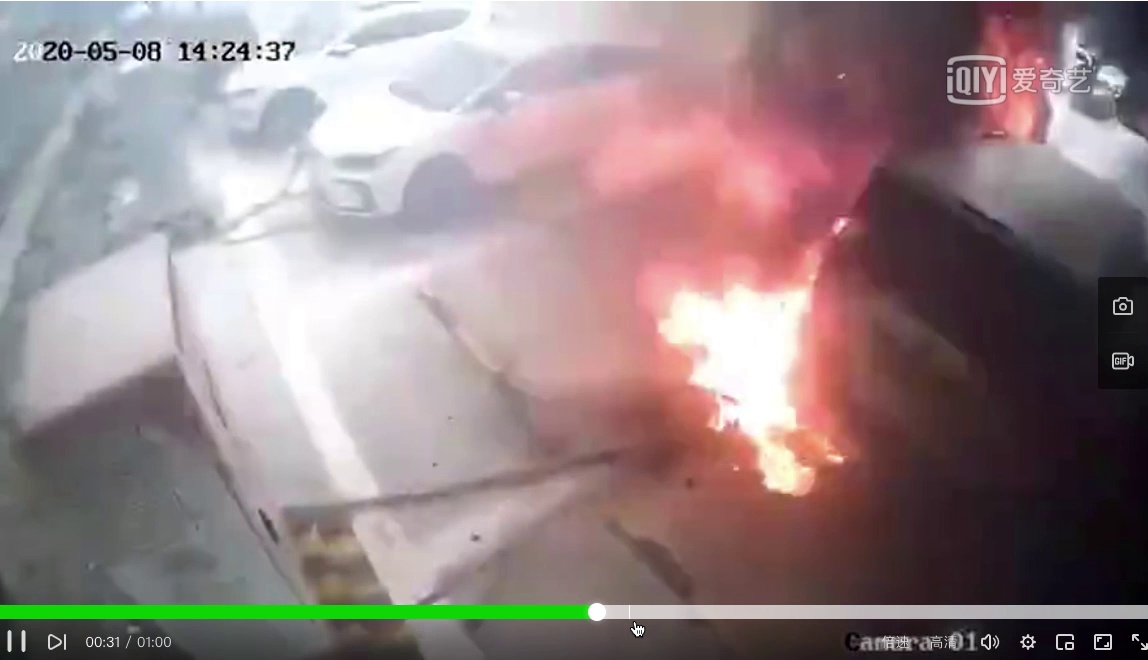fire: (652, 235, 832, 497)
